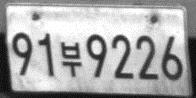1: (38, 32, 54, 78)
2: (134, 33, 158, 81), (111, 33, 135, 80)
6: (161, 35, 183, 82)
9: (12, 31, 33, 78), (86, 33, 107, 79)
부: (60, 40, 83, 79)
